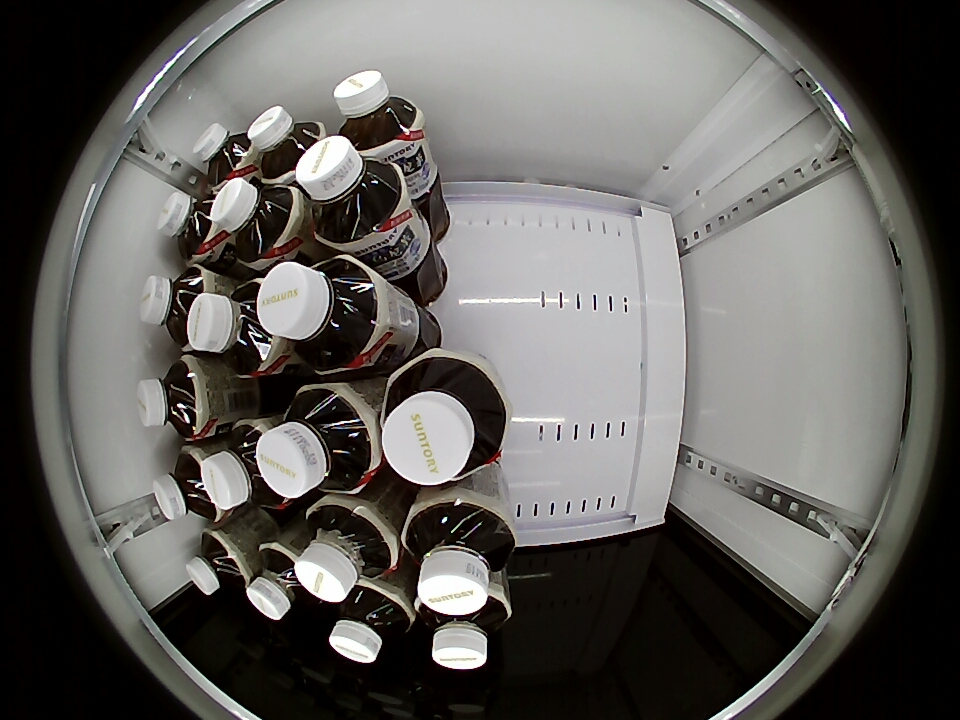wulongcha: (380, 350, 509, 489), (257, 255, 386, 374), (257, 382, 378, 499), (402, 497, 516, 617), (296, 135, 404, 251), (294, 496, 398, 602), (187, 276, 280, 377), (200, 420, 288, 510), (209, 178, 301, 262), (333, 69, 423, 153), (416, 590, 510, 670), (328, 582, 413, 664), (139, 265, 212, 348), (135, 357, 208, 439), (248, 105, 324, 182), (246, 542, 317, 621), (152, 446, 223, 522), (156, 190, 225, 263), (185, 529, 249, 596), (194, 123, 255, 186)
